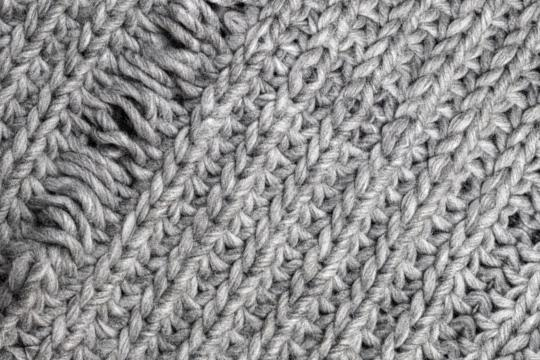slub: (21, 1, 249, 260)
